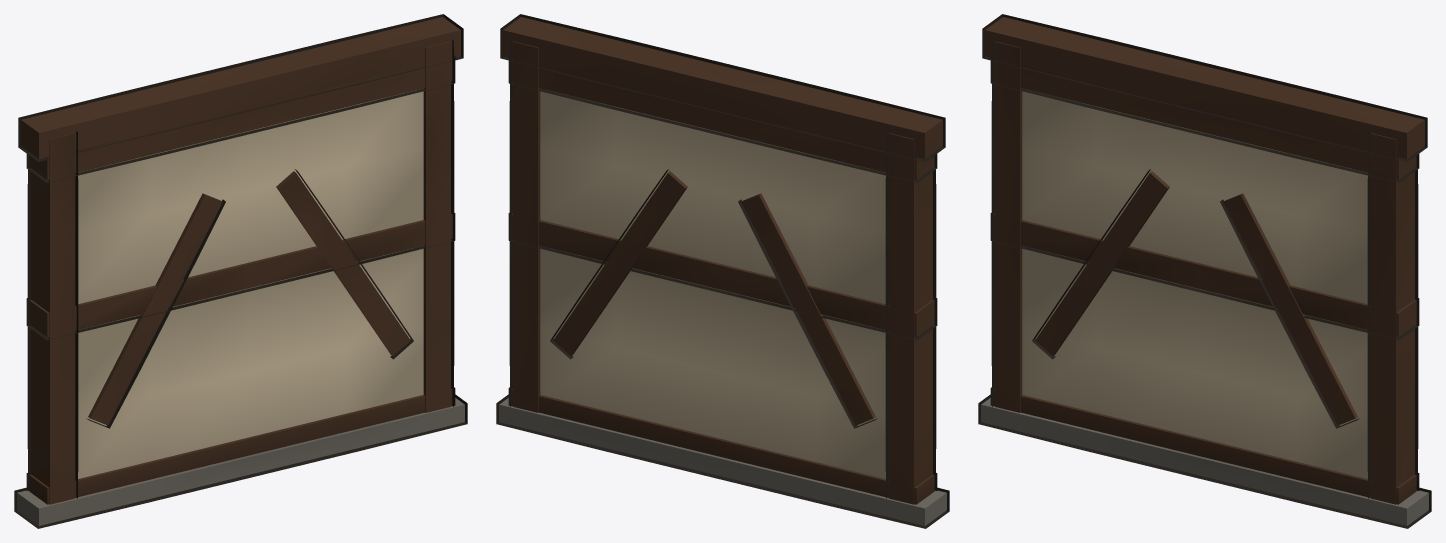
File: colombage_panneau.glb
The picture shows the model from 3 angles, left to right: view 1: azimuth 30°, elevation 25°; view 2: azimuth 150°, elevation 25°; view 3: azimuth 330°, elevation 25°; orthographic projection.
Parts seen in each view (by area): view 1: colombage_panneau, colombage_panneau_outline; view 2: colombage_panneau, colombage_panneau_outline; view 3: colombage_panneau, colombage_panneau_outline.
Part boxes in pixels (left/top/right/bottom): colombage_panneau: left=17, top=17, right=464, bottom=525; colombage_panneau_outline: left=14, top=14, right=467, bottom=528; colombage_panneau: left=499, top=17, right=946, bottom=525; colombage_panneau_outline: left=496, top=14, right=949, bottom=528; colombage_panneau: left=981, top=17, right=1428, bottom=525; colombage_panneau_outline: left=978, top=14, right=1431, bottom=528.
Size of the model in its own units: 2.06 by 1.81 by 0.1998.
